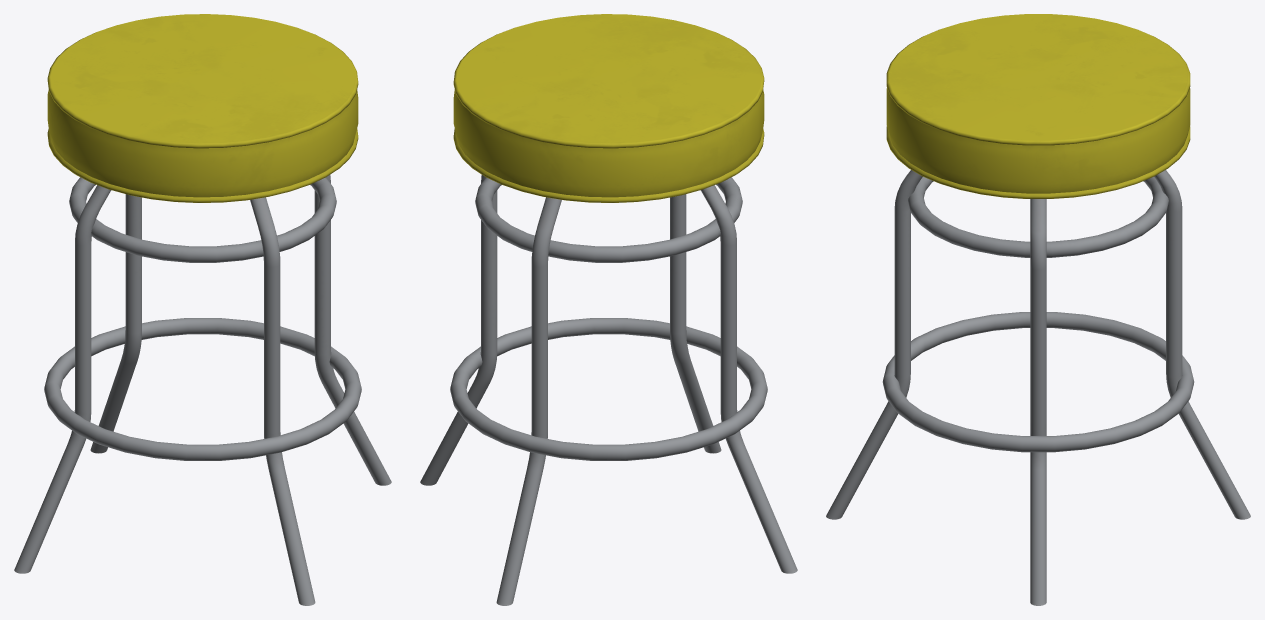
File: SM_Seat_01.fbx
3 views of the same model, side by side, from view 1: azimuth 30°, elevation 25°; view 2: azimuth 150°, elevation 25°; view 3: azimuth 270°, elevation 25° (orthographic).
Visible parts, largest first — view 1: SM_Seat_01_LOD0; view 2: SM_Seat_01_LOD0; view 3: SM_Seat_01_LOD0.
Boxes of the visible parts, left/top/right/bottom form: SM_Seat_01_LOD0: left=14, top=14, right=391, bottom=605; SM_Seat_01_LOD0: left=420, top=14, right=797, bottom=605; SM_Seat_01_LOD0: left=826, top=14, right=1250, bottom=605.
Size of the model in its own units: 68.61 by 68.61 by 78.23.
1 material, 1 textured.
